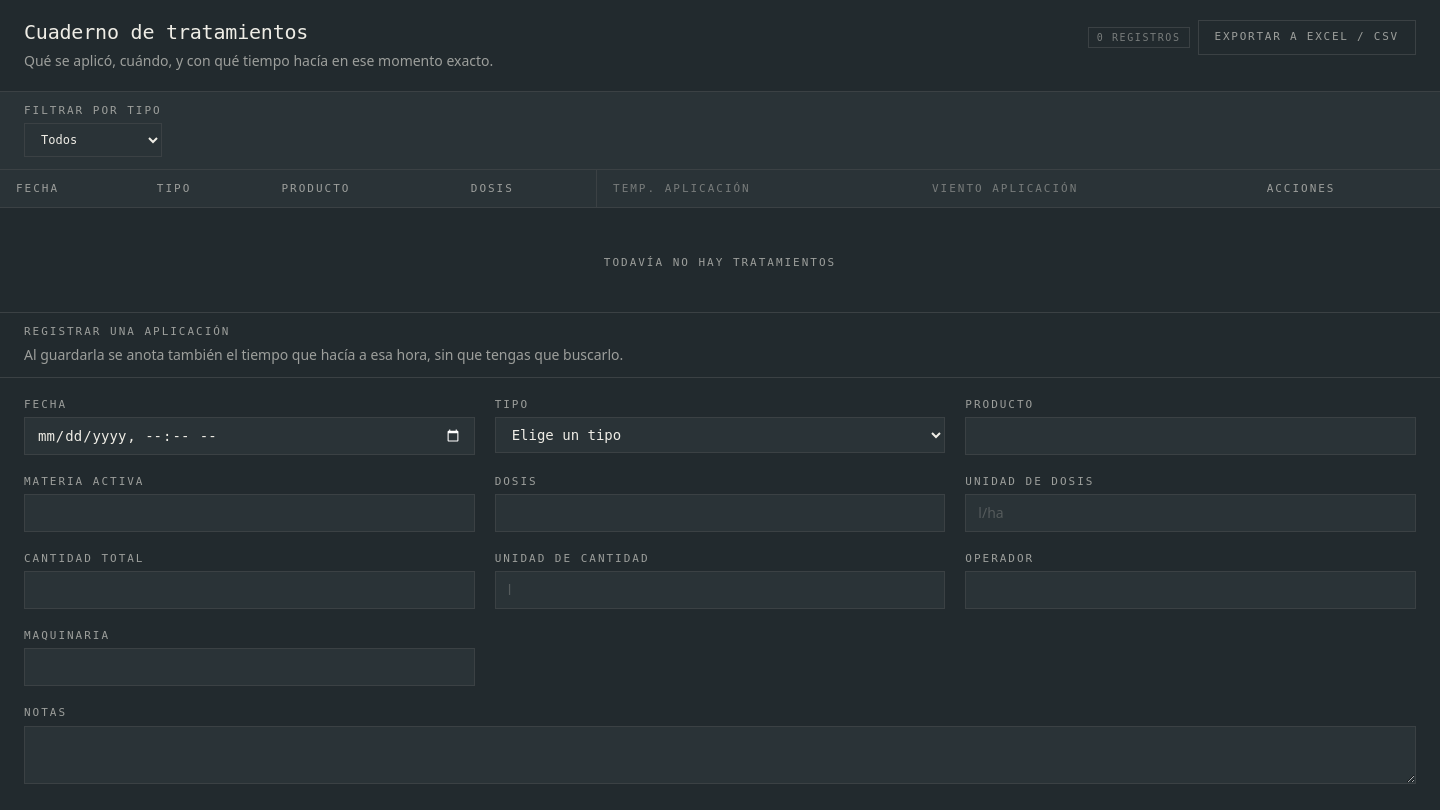
Test: un error al crear se traduce con MensajeError
Expected: the table is shown, [0,170,1439,312]
Type "2026-08-20T09:00" into the field labelled "Fecha".
click(249, 436); type("2026-08-20T09:00")  # box [24,417,475,455]
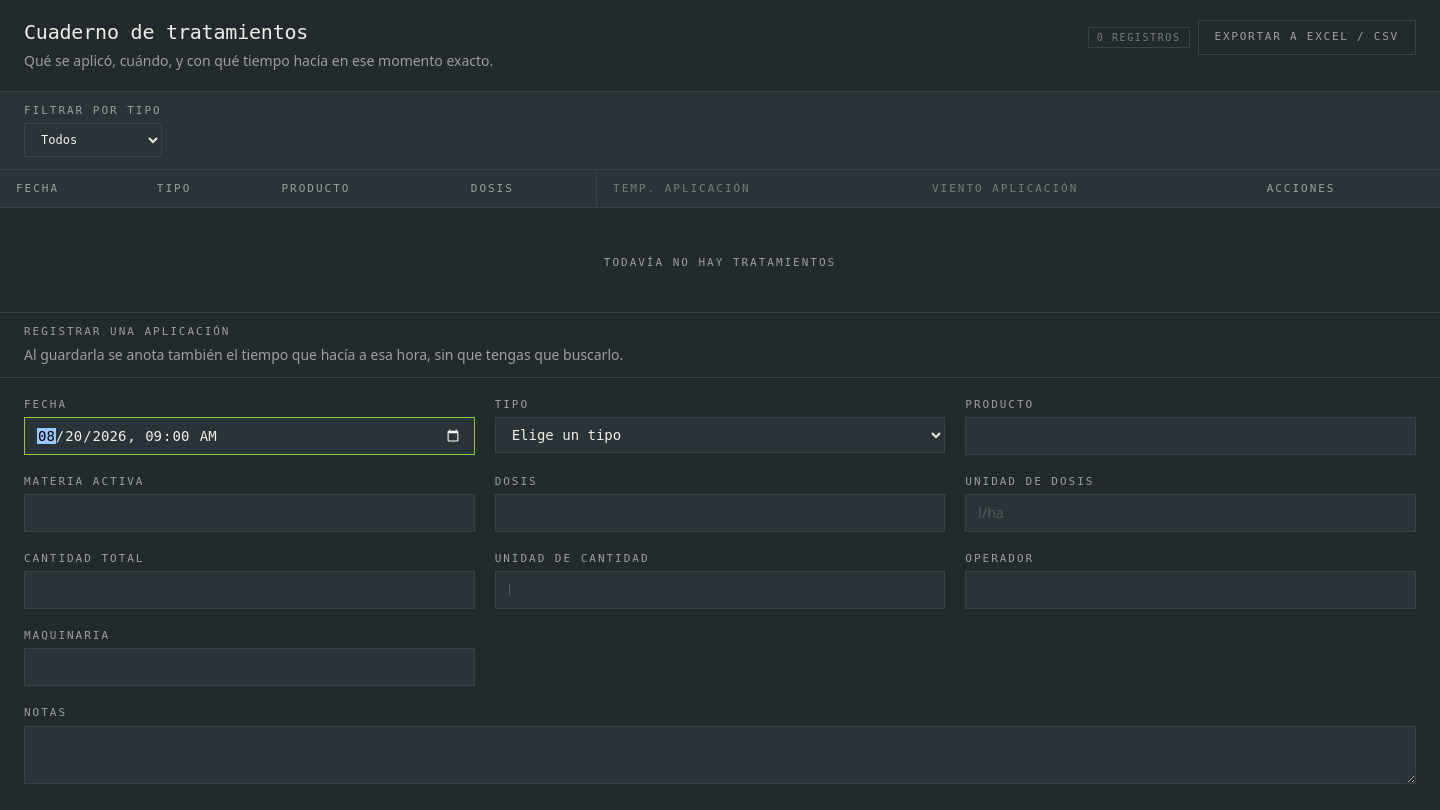
Select "Fungicida" in the dropdown labelled "Tipo" at (720, 435), box [495,417,945,453]
(page scrolled)
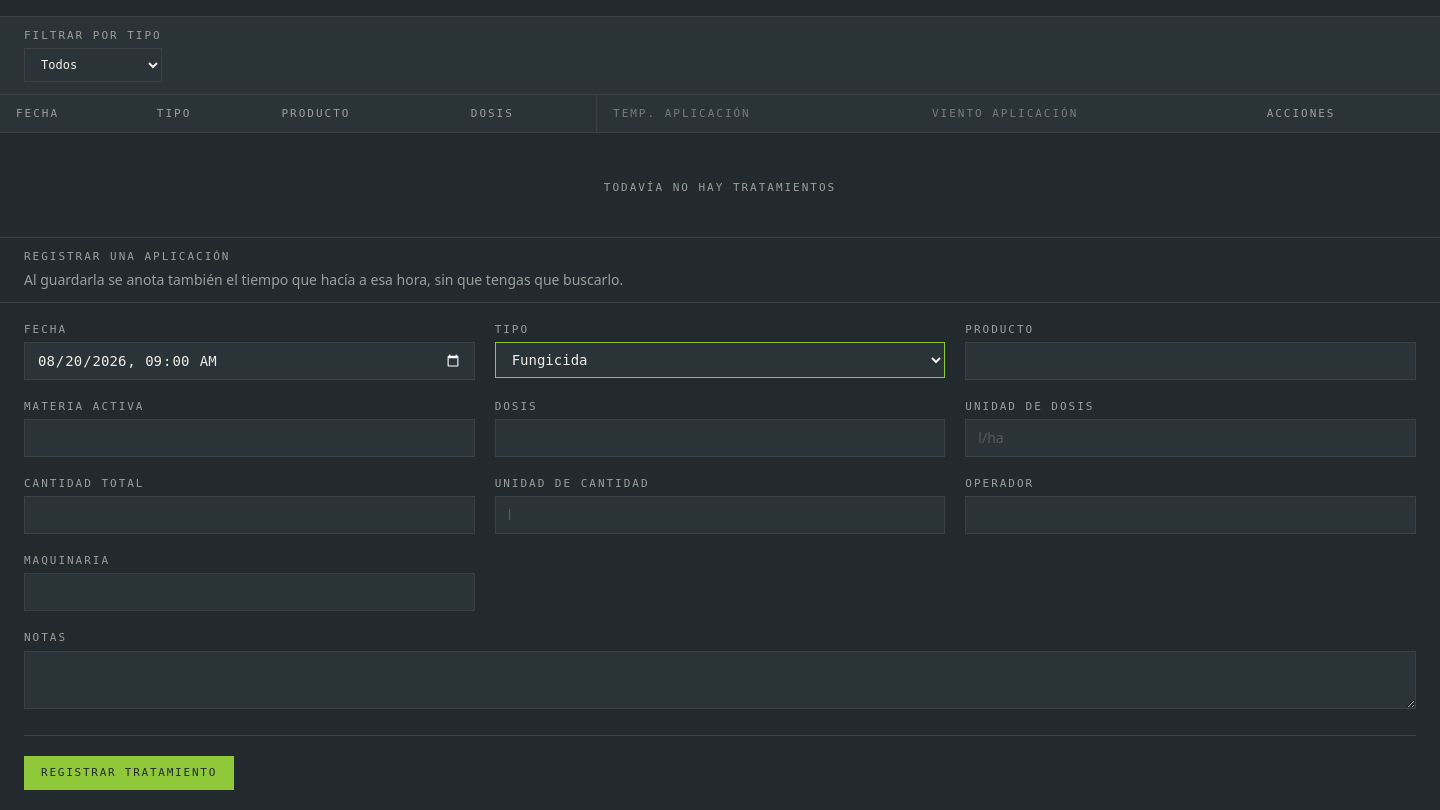
Click the button "Registrar tratamiento".
click(129, 773)  # box [24,756,234,790]
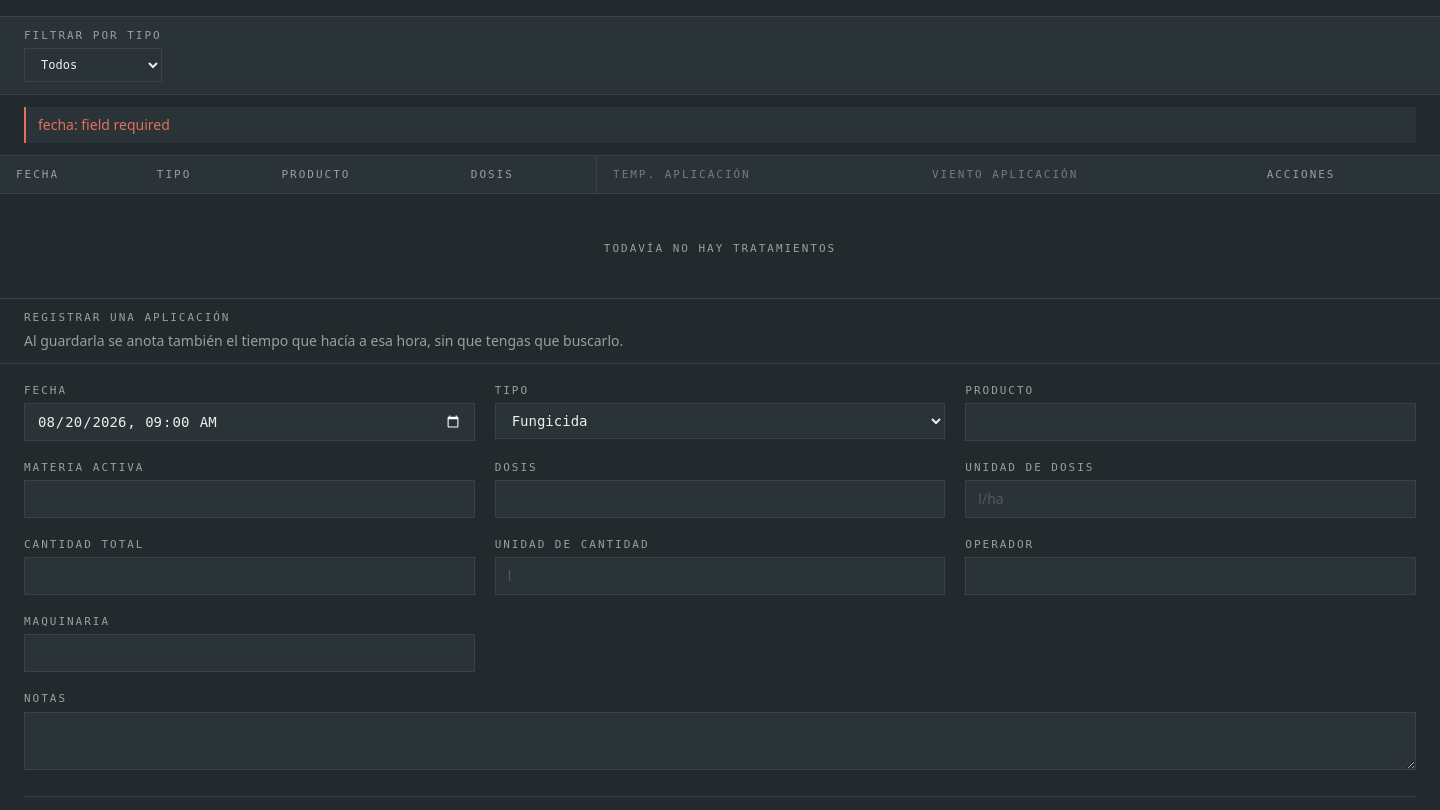
Result: the text "fecha: field required" is shown at [24,107,1416,143]
